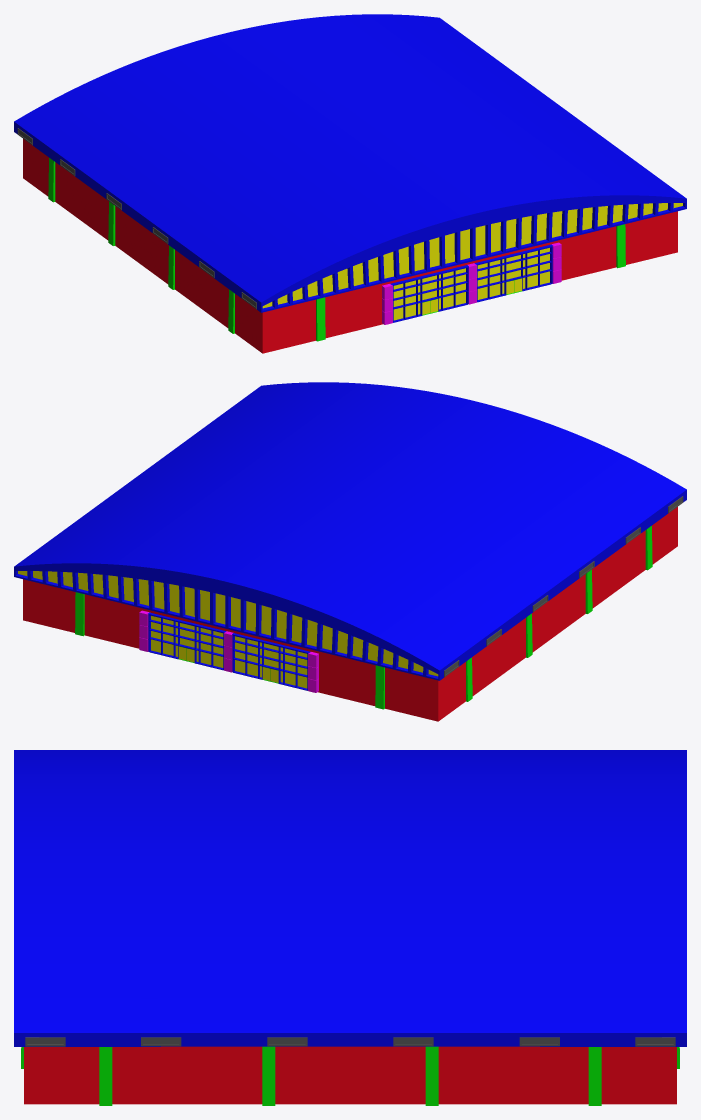
File: SPX Building.fbx
3 renders of one model, top to bottom at view 1: azimuth 30°, elevation 25°; view 2: azimuth 150°, elevation 25°; view 3: azimuth 270°, elevation 25°, orthographic. The views are drawn at different scales.
Visible parts, largest first — view 1: SPX Building LOD 0; view 2: SPX Building LOD 0; view 3: SPX Building LOD 0.
Part boxes in pixels (x1=…): SPX Building LOD 0: x1=14, y1=14, x2=686, y2=353; SPX Building LOD 0: x1=14, y1=382, x2=686, y2=721; SPX Building LOD 0: x1=14, y1=750, x2=686, y2=1105.
Size of what is drawn, in the model's own units: 508 by 104 by 510.
